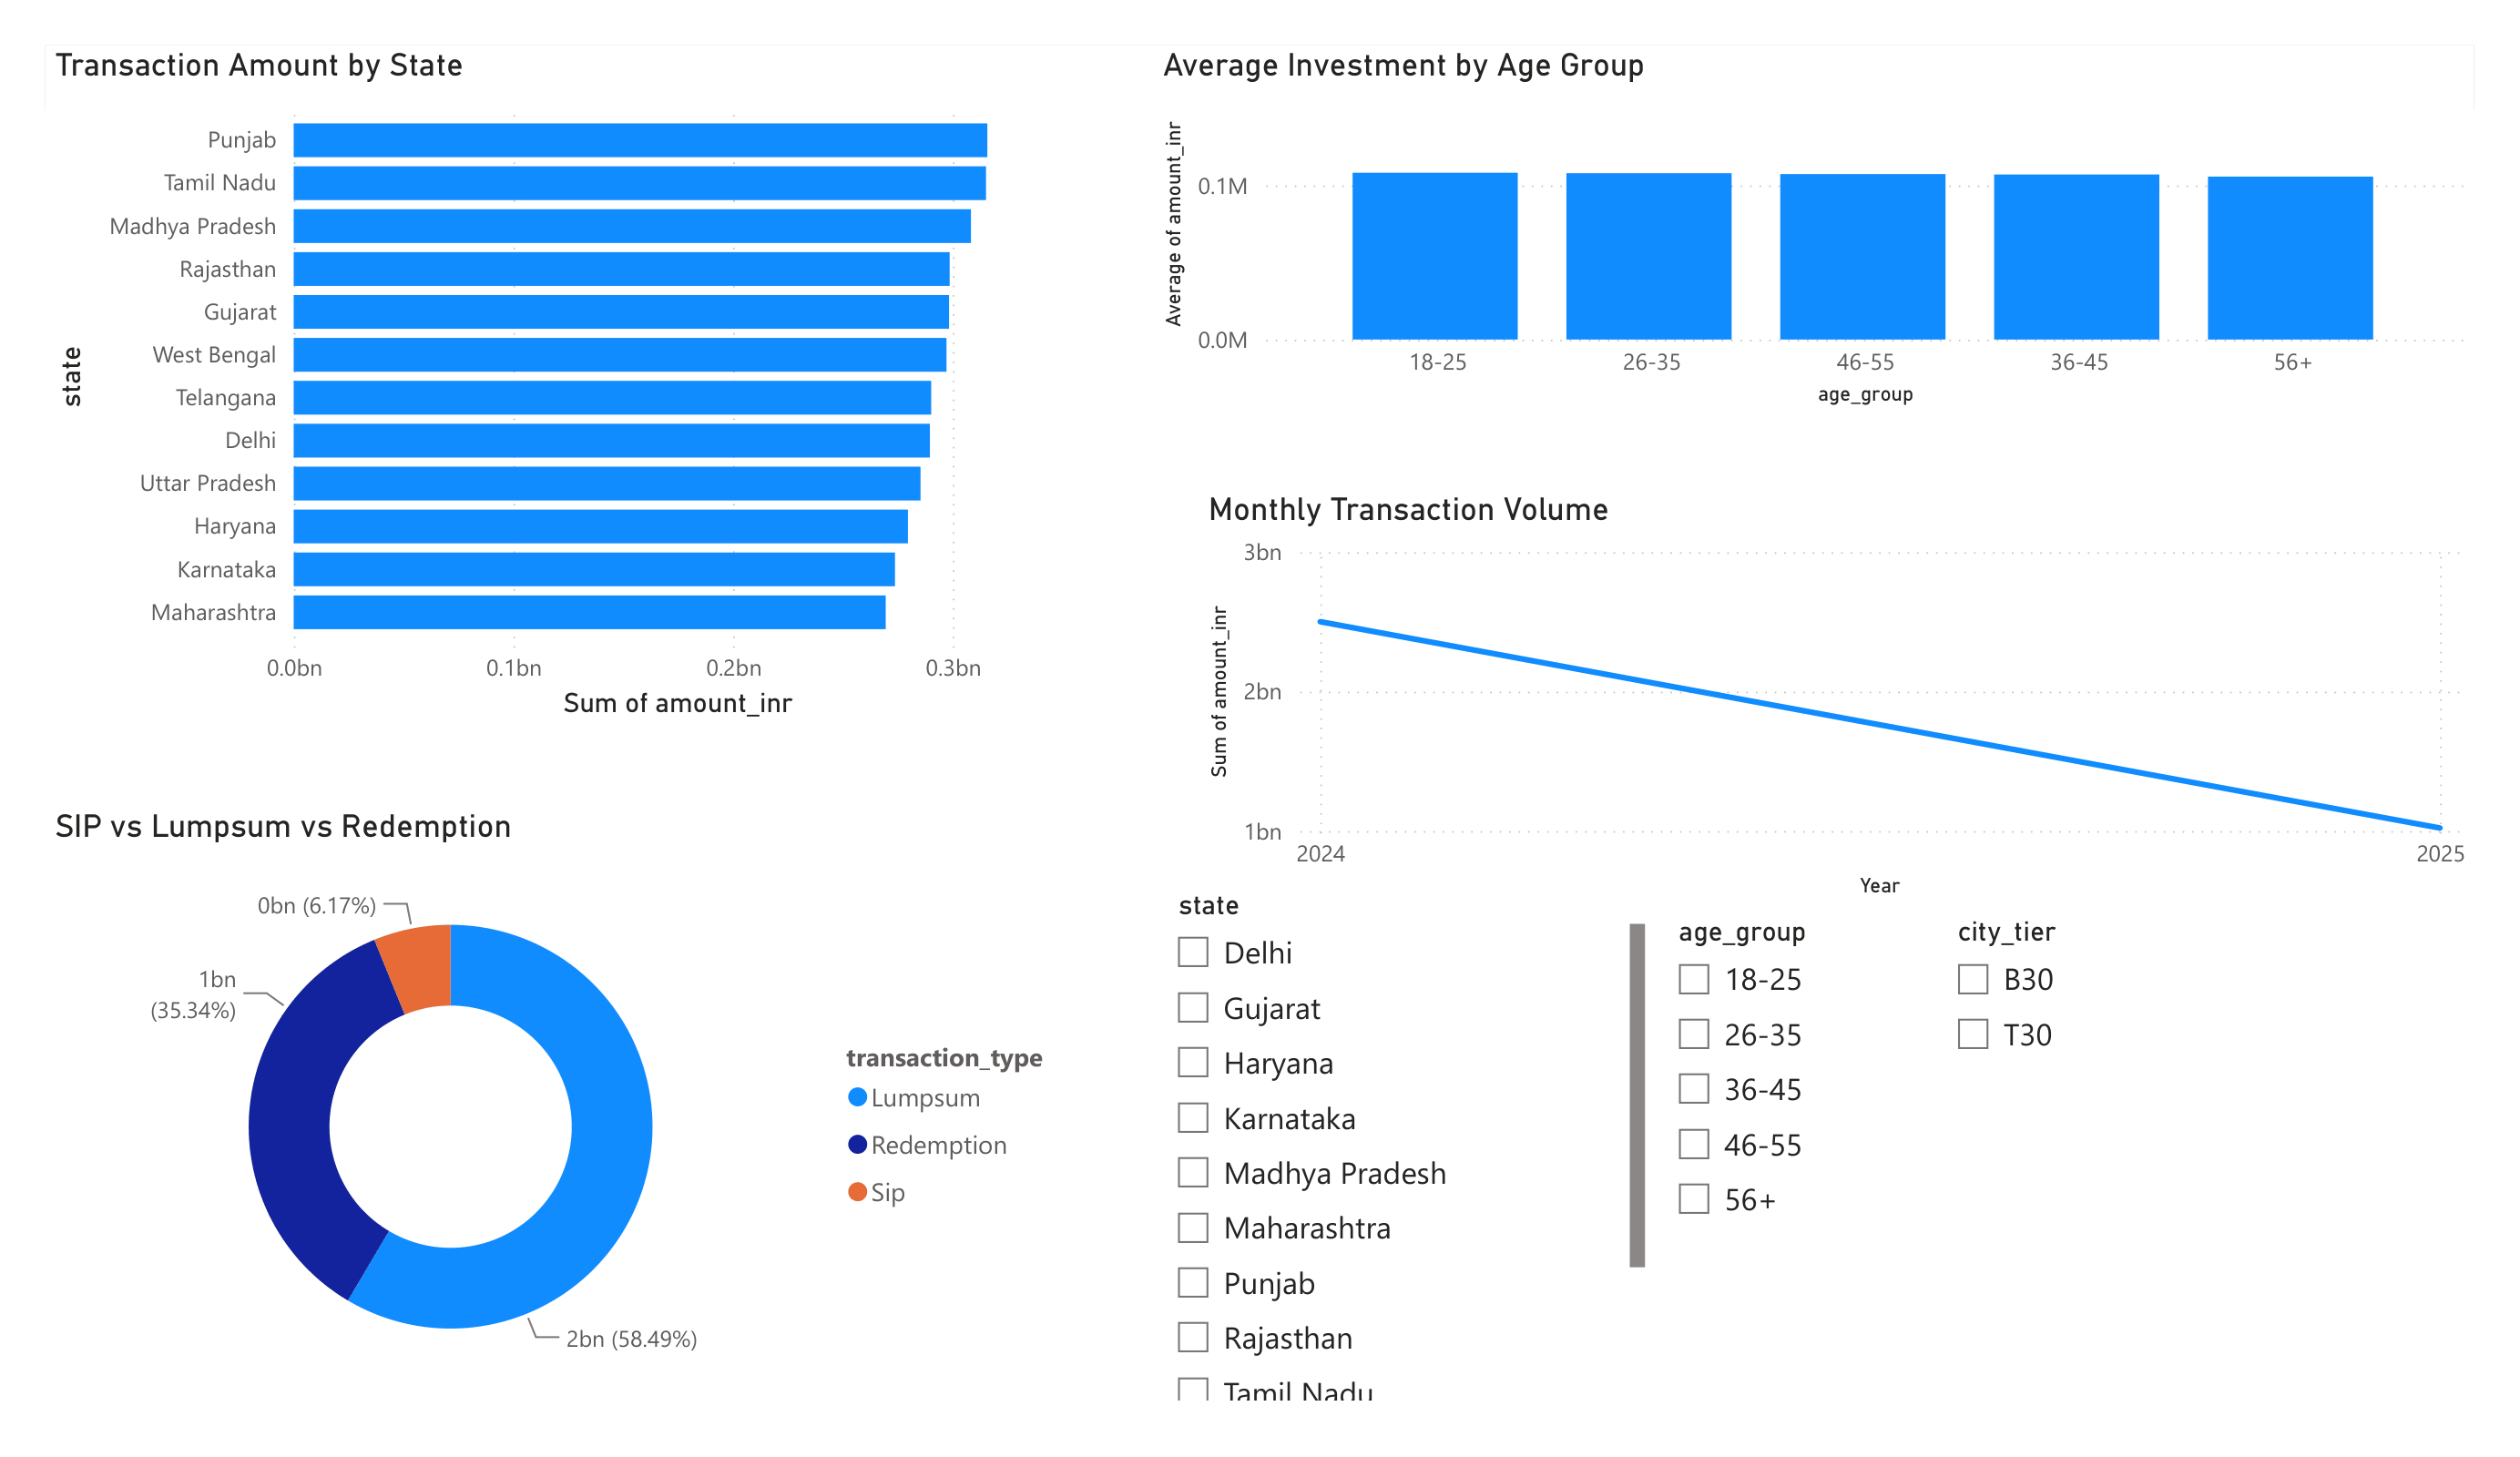

Layout of this report page (visuals, bound fields, positions):
{"tool":"powerbi","page":{"name":"Investor Analytics","canvas":[1280,720],"ordinal":2},"visuals":[{"type":"clusteredBarChart","title":"Transaction Amount by State","fields":{"Category":["clean_transactions.state"],"Y":["Sum(clean_transactions.amount_inr)"]},"box":[0,0,556.2,360],"z":0},{"type":"donutChart","title":"SIP vs Lumpsum vs Redemption","fields":{"Category":["clean_transactions.transaction_type"],"Y":["Sum(clean_transactions.amount_inr)"]},"box":[0,401.2,546.2,318.8],"z":1000},{"type":"clusteredColumnChart","title":"Average Investment by Age Group","fields":{"Category":["clean_transactions.age_group"],"Y":["Avg(clean_transactions.amount_inr)"]},"box":[583.8,0,696.2,195],"z":2000},{"type":"lineChart","title":"Monthly Transaction Volume","fields":{"Category":["clean_transactions.transaction_date.Variation.Date Hierarchy.Year","clean_transactions.transaction_date.Variation.Date Hierarchy.Quarter","clean_transactions.transaction_date.Variation.Date Hierarchy.Month","clean_transactions.transaction_date.Variation.Date Hierarchy.Day"],"Y":["Sum(clean_transactions.amount_inr)"]},"box":[607.5,233.8,672.5,220],"z":3000},{"type":"slicer","fields":{"Values":["clean_transactions.state"]},"box":[583.8,440,263.8,280],"z":3001},{"type":"slicer","fields":{"Values":["clean_transactions.age_group"]},"box":[847.5,453.8,147.5,266.2],"z":3002},{"type":"slicer","fields":{"Values":["clean_transactions.city_tier"]},"box":[995,453.8,202.5,266.2],"z":3003}]}

Visuals, with their boxes on the page's 1280x720 design canvas (x1, y1, x2, y2). These are canvas units, not pixel positions in the 2520x1457 screenshot, which may show the page scaled, cropped or inside an application window:
"Transaction Amount by State" clusteredBarChart: select_region(0, 0, 556, 360)
"SIP vs Lumpsum vs Redemption" donutChart: select_region(0, 401, 546, 720)
"Average Investment by Age Group" clusteredColumnChart: select_region(584, 0, 1280, 195)
"Monthly Transaction Volume" lineChart: select_region(608, 234, 1280, 454)
slicer - clean_transactions.state: select_region(584, 440, 848, 720)
slicer - clean_transactions.age_group: select_region(848, 454, 995, 720)
slicer - clean_transactions.city_tier: select_region(995, 454, 1198, 720)
